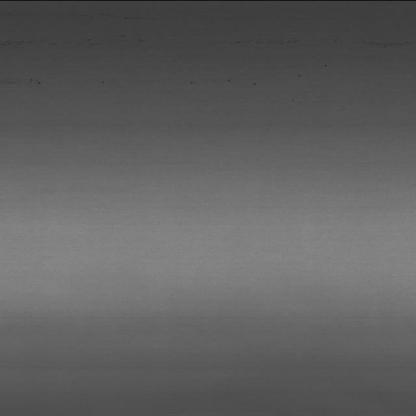silk_spot: (211, 25, 301, 62)
